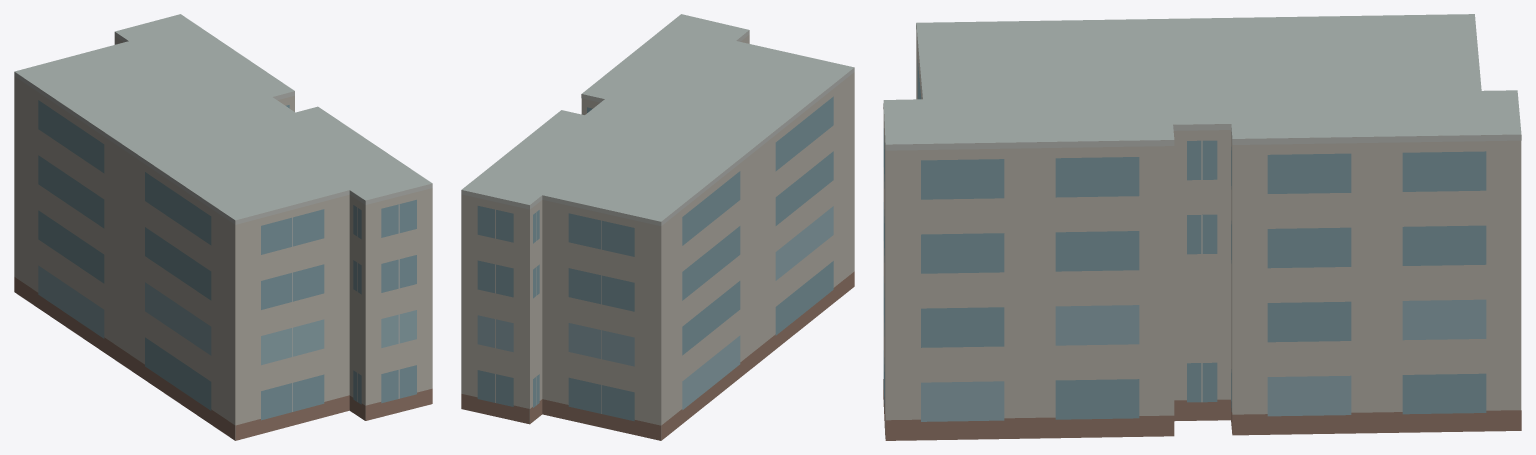
The model's file is survey-upis-32658654.glb.
3 renders of one model, left to right at view 1: azimuth 30°, elevation 25°; view 2: azimuth 150°, elevation 25°; view 3: azimuth 270°, elevation 25°, orthographic. The views are drawn at different scales.
Parts seen in each view (by area): view 1: survey-upis-32658654.tmp; view 2: survey-upis-32658654.tmp; view 3: survey-upis-32658654.tmp.
Part boxes in pixels (x1=…): survey-upis-32658654.tmp: x1=14, y1=14, x2=432, y2=440; survey-upis-32658654.tmp: x1=461, y1=14, x2=854, y2=440; survey-upis-32658654.tmp: x1=883, y1=14, x2=1521, y2=440.
Bounding box in the file's own units: 11.21 × 11.85 × 23.14.
